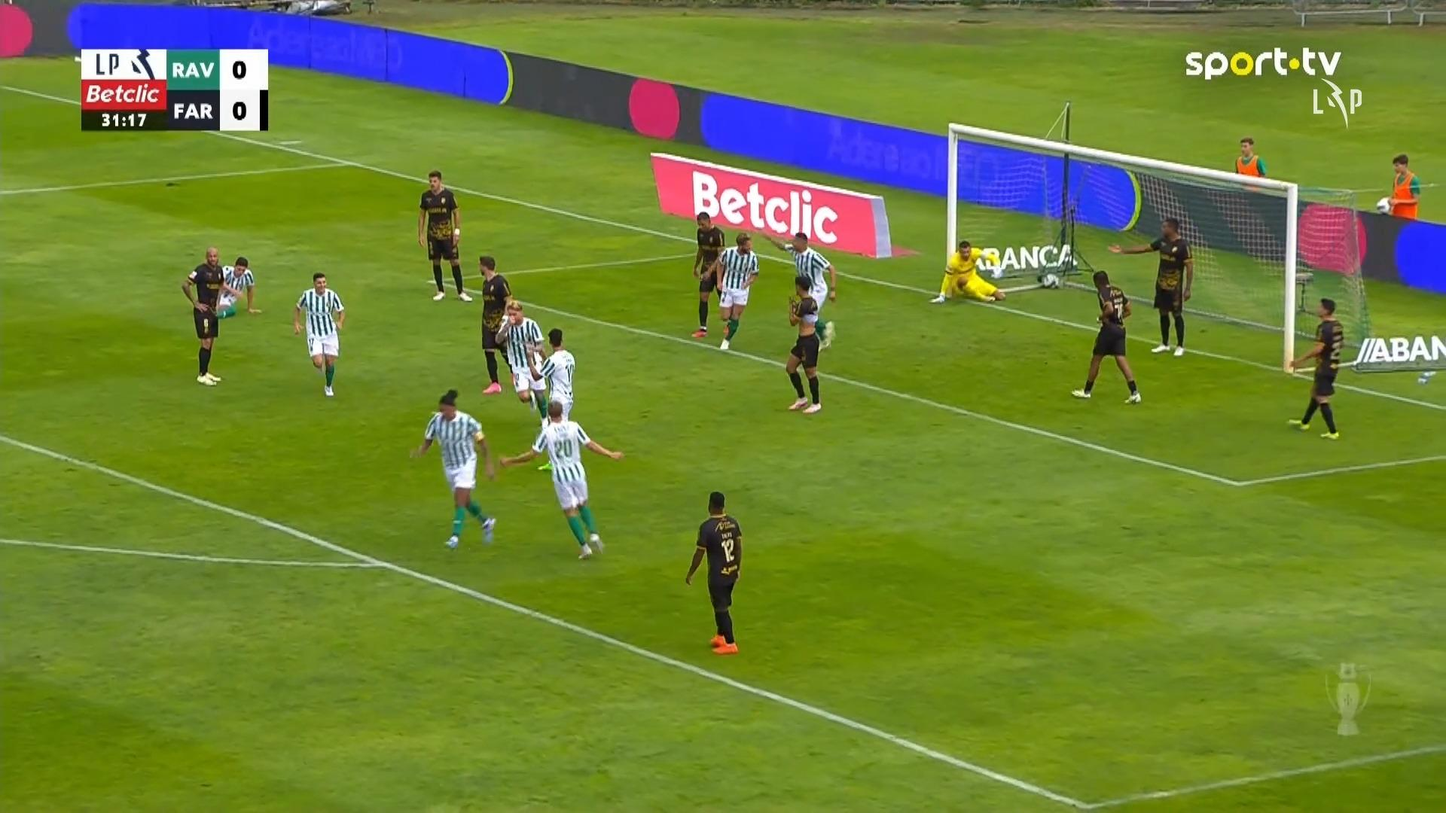ball: (1042, 271, 1061, 290)
goalkeeper: (929, 239, 1005, 304)
player: (499, 398, 624, 560), (410, 388, 496, 549), (1107, 216, 1194, 357), (1069, 269, 1141, 404), (684, 490, 743, 654), (761, 231, 837, 348), (180, 245, 243, 385), (1285, 297, 1344, 439), (416, 169, 473, 302), (525, 327, 575, 470), (784, 274, 835, 413), (701, 230, 759, 350), (292, 272, 345, 397), (494, 298, 549, 413), (477, 254, 517, 394), (690, 210, 725, 339), (215, 255, 261, 317)
